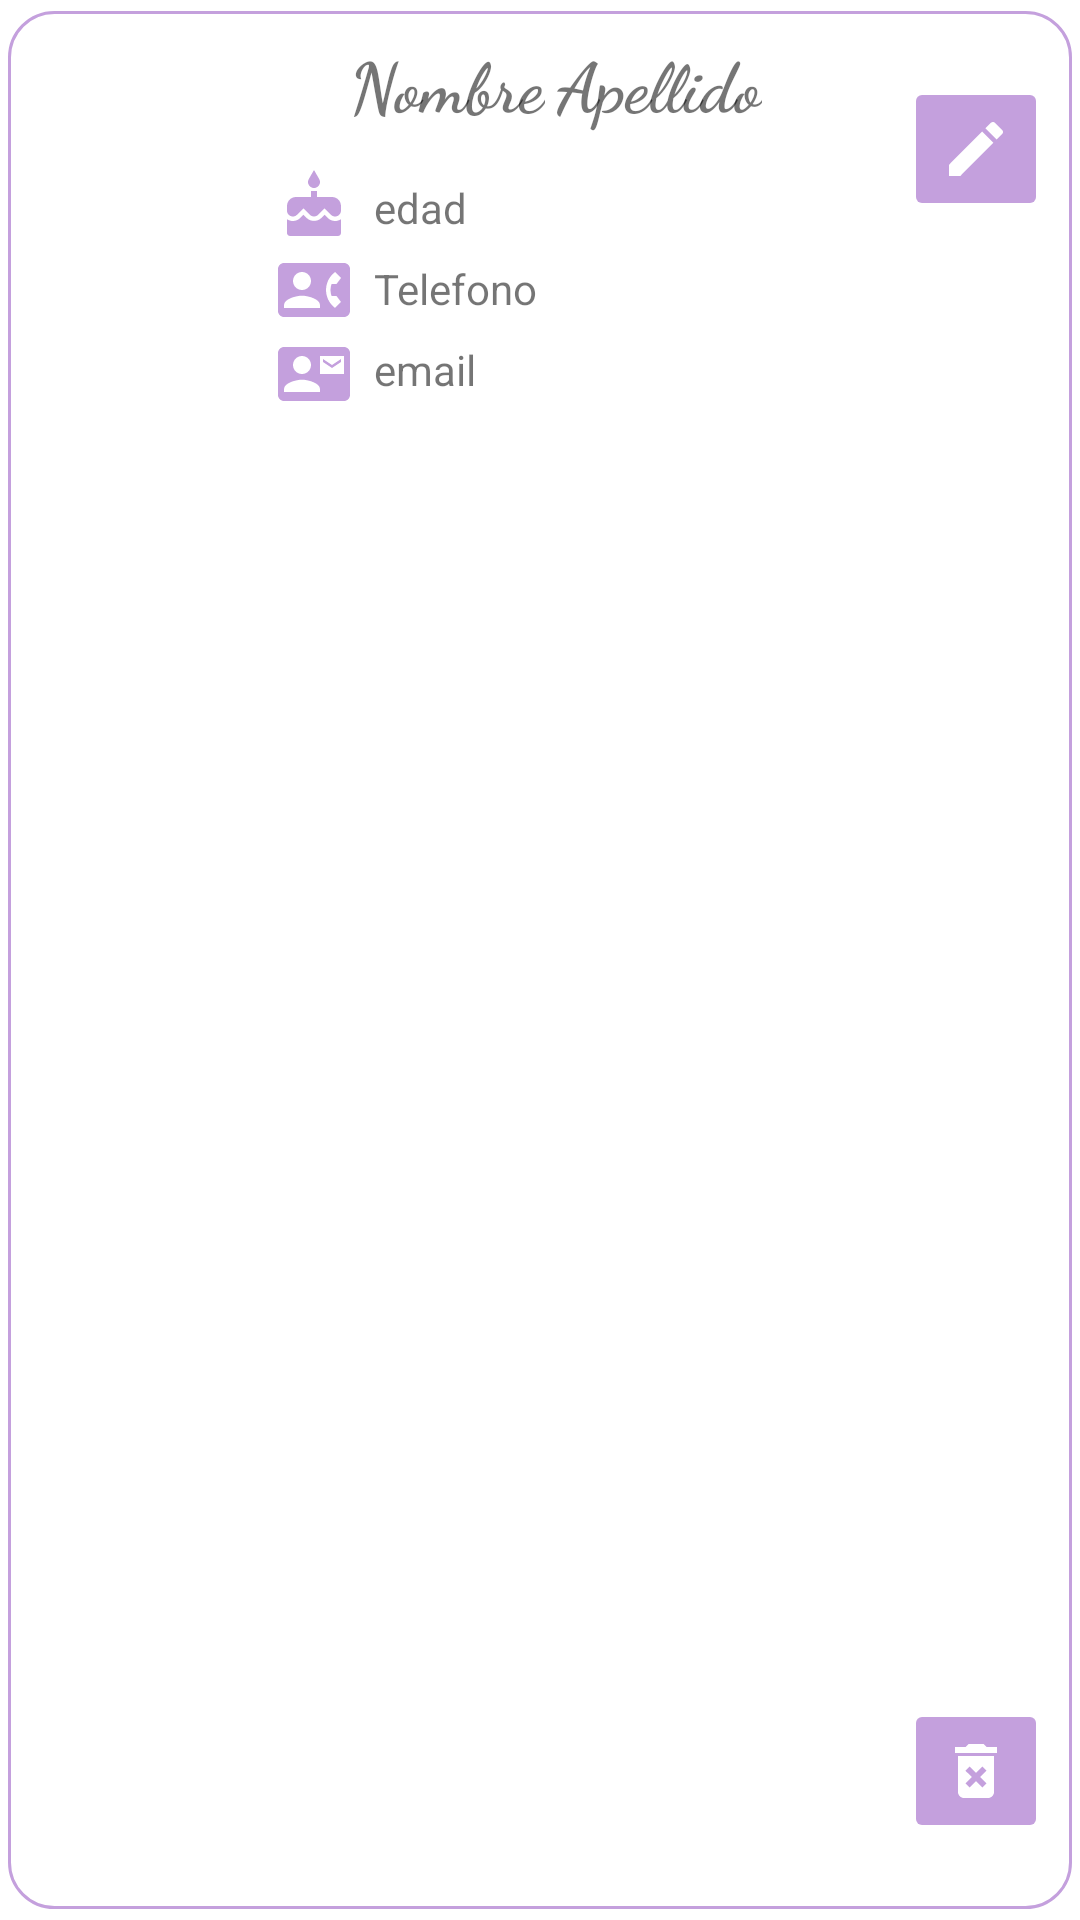

Screen size 1080px x 1920px. Icon name, then its center in pixels as [x,y]:
contact mail: [314,374]
delete: [976,1771]
edit: [976,149]
phone: [314,290]
